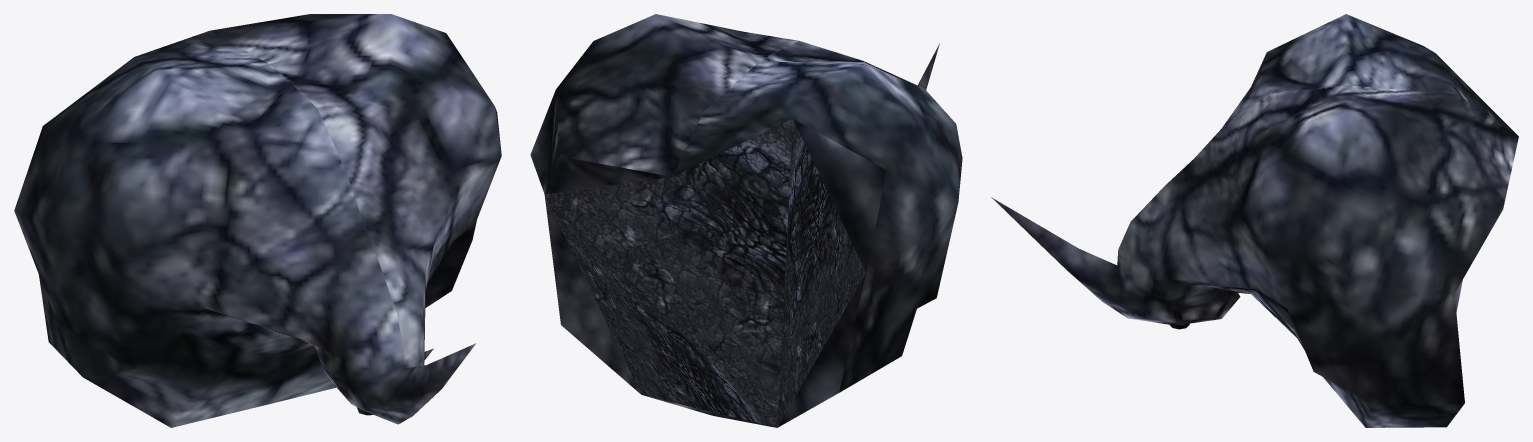
Rendered from nar_condra_7_neck.glb.
3 renders of one model, left to right at view 1: azimuth 30°, elevation 25°; view 2: azimuth 150°, elevation 25°; view 3: azimuth 270°, elevation 25°, orthographic. The views are drawn at different scales.
Visible parts, largest first — view 1: model_nar_condra_7_neck; view 2: model_nar_condra_7_neck; view 3: model_nar_condra_7_neck.
Boxes of the visible parts, x1,y1,x2,y2 form: model_nar_condra_7_neck: (14, 14, 501, 427); model_nar_condra_7_neck: (530, 14, 962, 427); model_nar_condra_7_neck: (991, 14, 1518, 427).
Bounding box in the file's own units: 0.7631 × 0.6215 × 0.8816.
Materials: 1 (1 with a texture image).
